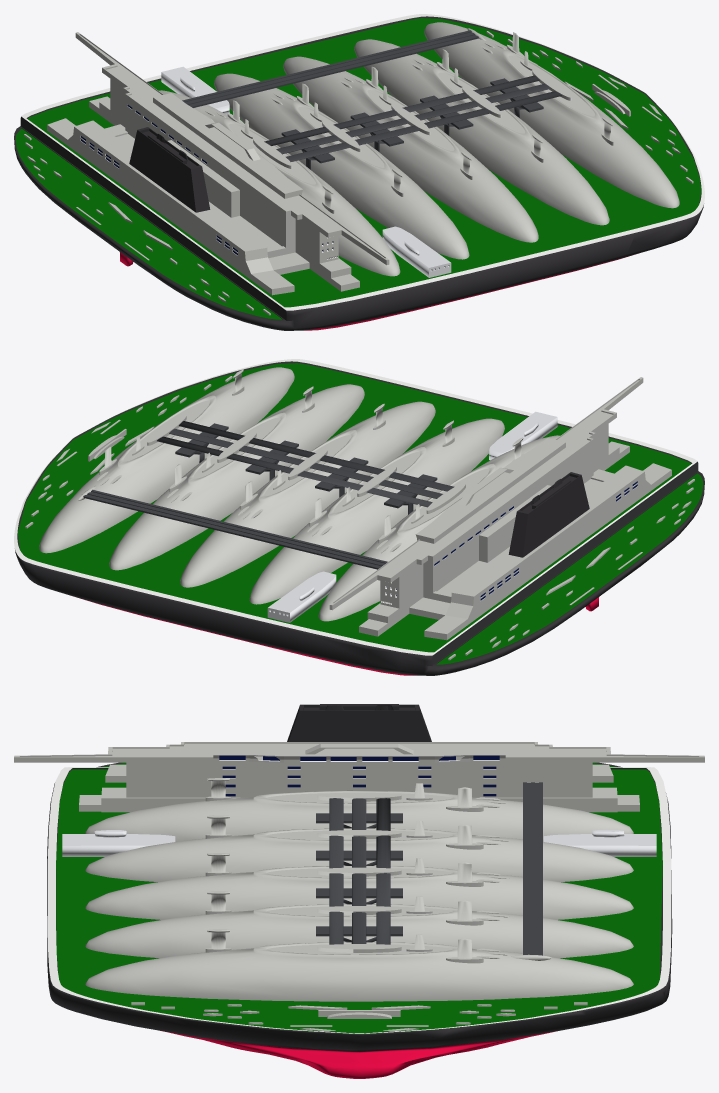
Rendered from ship-lng.glb.
3 renders of one model, top to bottom at view 1: azimuth 30°, elevation 25°; view 2: azimuth 150°, elevation 25°; view 3: azimuth 270°, elevation 25°, orthographic. The views are drawn at different scales.
Visible parts, largest first — view 1: Object_4; view 2: Object_4; view 3: Object_4.
Boxes of the visible parts, x1=… form: Object_4: x1=14, y1=14, x2=704, y2=330; Object_4: x1=14, y1=359, x2=704, y2=675; Object_4: x1=14, y1=704, x2=704, y2=1078.
Size of the model in its own units: 0.9999 by 0.1956 by 0.9998.
Materials: 1 (1 with a texture image).
